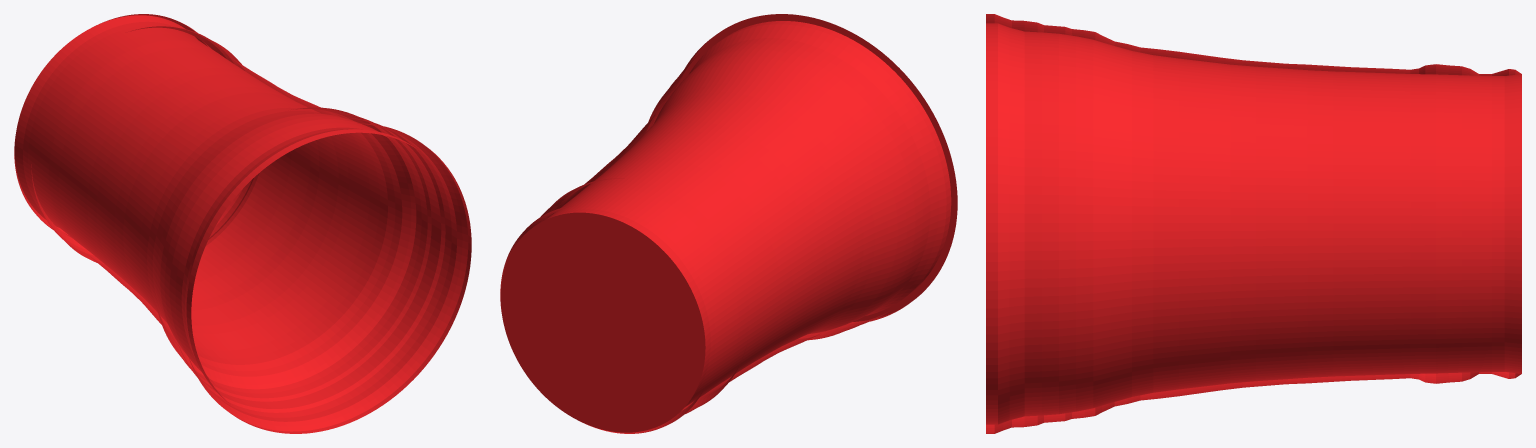
Rendered from red_party_cup.glb.
3 renders of one model, left to right at view 1: azimuth 30°, elevation 25°; view 2: azimuth 150°, elevation 25°; view 3: azimuth 270°, elevation 25°, orthographic. The views are drawn at different scales.
Parts seen in each view (by area): view 1: red_party_cup.obj; view 2: red_party_cup.obj; view 3: red_party_cup.obj.
Boxes of the visible parts, bbox=[...] form: red_party_cup.obj: bbox=[14, 14, 471, 433]; red_party_cup.obj: bbox=[500, 14, 957, 433]; red_party_cup.obj: bbox=[986, 14, 1521, 433].
Size of the model in its own units: 98 by 98 by 125.
